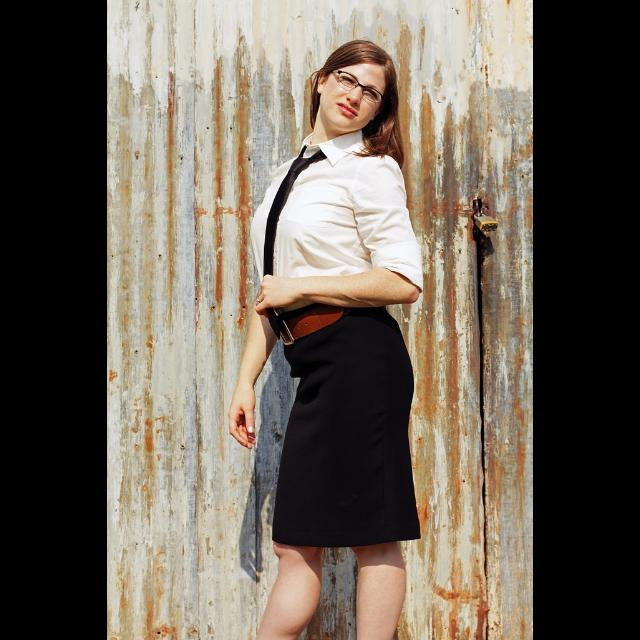bottom: (274, 318, 418, 540)
glasses: (329, 70, 396, 104)
top: (253, 132, 432, 314)
